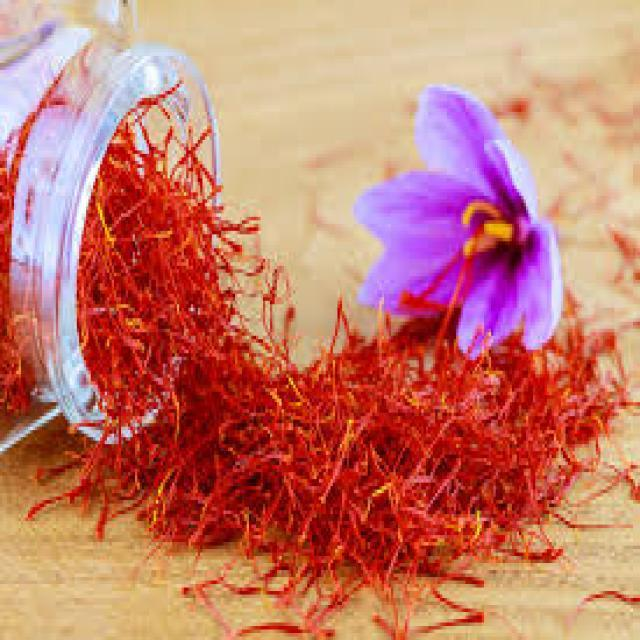Flower: (346, 84, 564, 354)
stigma: (433, 266, 487, 351), (399, 238, 457, 308)
